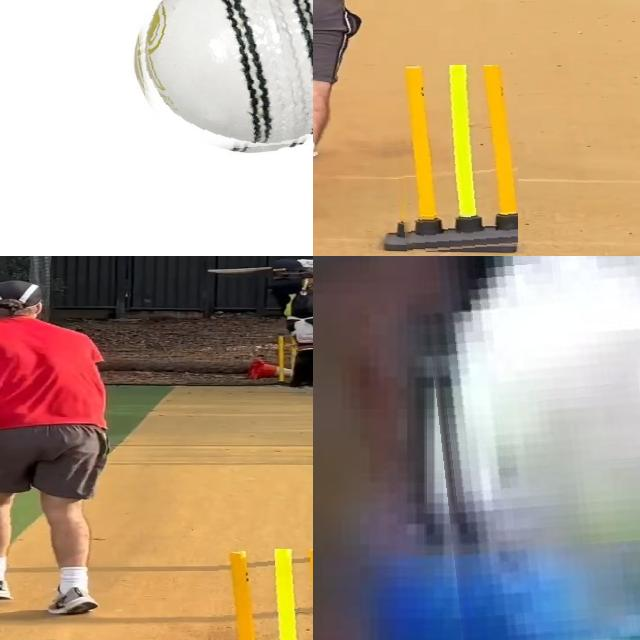Cricket ball: (418, 256, 640, 640), (129, 0, 313, 154)
Stumps: (386, 65, 518, 254), (209, 548, 313, 640)
